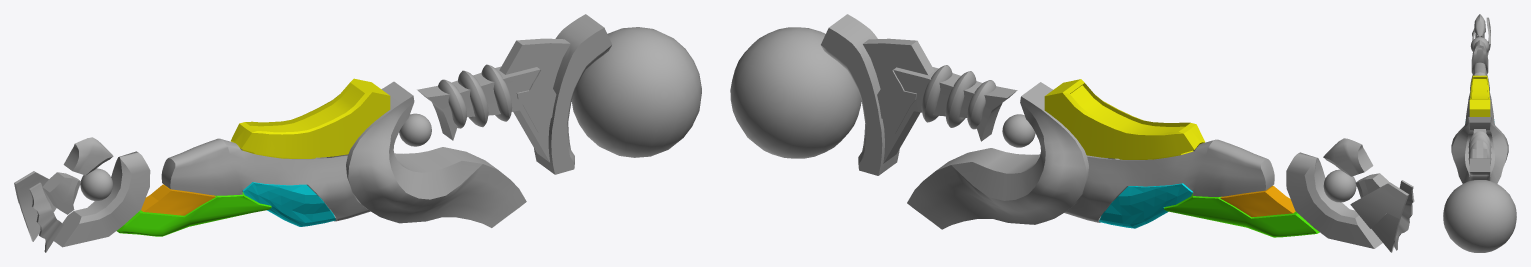
Rendered from ArmforReview.fbx.
3 renders of one model, left to right at view 1: azimuth 30°, elevation 25°; view 2: azimuth 150°, elevation 25°; view 3: azimuth 270°, elevation 25°, orthographic. The views are drawn at different scales.
Visible parts, largest first — view 1: EllbowArch, BigBall, Stock, ForarmMiddle, ForarmScope, Palm, ForarmVerticalGrip, ForarmBlue, StockRings, ForarmOrange, ThumbBase, Hand_Backpiece (+4 smaller); view 2: BigBall, EllbowArch, Stock, ForarmMiddle, ForarmScope, Palm, ForarmVerticalGrip, ForarmBlue, StockRings, Hand_Backpiece, ForarmOrange, ThumbBase (+4 smaller); view 3: BigBall, EllbowArch, ForarmScope, Stock, StockRings, Palm, ForarmMiddle, ThumbBase, HandBall, Hand_Backpiece.
Part boxes in pixels (x1,y1,x2,y2): EllbowArch: (327,81,526,227); BigBall: (571,27,701,157); Stock: (417,14,612,174); ForarmMiddle: (161,138,370,221); ForarmScope: (231,78,390,158); Palm: (54,151,150,247); ForarmVerticalGrip: (117,192,271,236); ForarmBlue: (242,182,335,226); StockRings: (438,64,512,128); ForarmOrange: (141,184,215,215); ThumbBase: (63,137,113,175); Hand_Backpiece: (14,171,56,241); BigBall: (730,27,861,158); EllbowArch: (907,82,1108,229); Stock: (821,14,1017,175); ForarmMiddle: (1064,139,1274,222); ForarmScope: (1044,79,1204,159); Palm: (1286,152,1382,248); ForarmVerticalGrip: (1164,193,1319,237); ForarmBlue: (1099,183,1192,228); StockRings: (921,65,996,129); Hand_Backpiece: (1350,182,1408,252); ForarmOrange: (1220,185,1295,217); ThumbBase: (1323,138,1373,176); BigBall: (1443,180,1516,252); EllbowArch: (1451,117,1508,183); ForarmScope: (1469,75,1490,116); Stock: (1469,129,1490,180); StockRings: (1468,131,1491,165); Palm: (1471,40,1488,73); ForarmMiddle: (1465,62,1494,124); ThumbBase: (1474,14,1485,36); HandBall: (1470,37,1489,51); Hand_Backpiece: (1486,17,1490,56).
Bounding box in the file's own units: 58.91 × 15.4 × 9.96.
